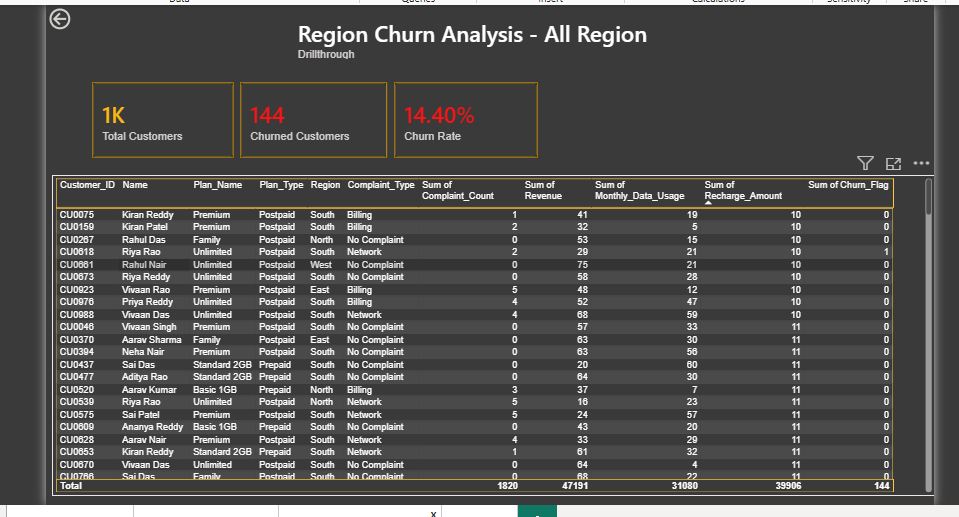

What the dashboard file says about the page in this screenshot:
{"tool":"powerbi","page":{"name":"Region Churn Analysis","canvas":[1280,720],"ordinal":2},"visuals":[{"type":"actionButton","box":[0,0,100,40],"z":0},{"type":"tableEx","fields":{"Values":["Customer_Churn_Fact.Customer_ID","Customer_Dimension.Name","Plan_Dimension.Plan_Name","Plan_Dimension.Plan_Type","Location_Dimension.Region","Complaint_Dimension.Complaint_Type","Sum(Customer_Churn_Fact.Complaint_Count)","Sum(Customer_Churn_Fact.Revenue)","Sum(Customer_Churn_Fact.Monthly_Data_Usage)","Sum(Customer_Churn_Fact.Recharge_Amount)","Sum(Customer_Churn_Fact.Churn_Flag)"]},"box":[8.6,244.8,1271.5,462.2],"z":1000},{"type":"cardVisual","fields":{"Data":["Measure.Churned Customers"]},"box":[275,106.6,221.8,118.1],"z":2000},{"type":"cardVisual","fields":{"Data":["Measure.Churn Rate"]},"box":[496.8,106.6,216,118.1],"z":3000},{"type":"cardVisual","fields":{"Data":["Measure.Drillthrough"]},"box":[332.6,0,613.4,96.5],"z":4000},{"type":"cardVisual","fields":{"Data":["Measure.Total Customers"]},"box":[61.9,106.6,213.1,118.1],"z":5000}]}

Visuals, with their boxes on the page's 1280x720 design canvas (x1, y1, x2, y2). These are canvas units, not pixel positions in the 959x517 screenshot, which may show the page scaled, cropped or inside an application window:
actionButton: <box>0,0,100,40</box>
tableEx - Customer_Churn_Fact.Customer_ID x Customer_Dimension.Name: <box>9,245,1280,707</box>
cardVisual - Measure.Churned Customers: <box>275,107,497,225</box>
cardVisual - Measure.Churn Rate: <box>497,107,713,225</box>
cardVisual - Measure.Drillthrough: <box>333,0,946,96</box>
cardVisual - Measure.Total Customers: <box>62,107,275,225</box>
